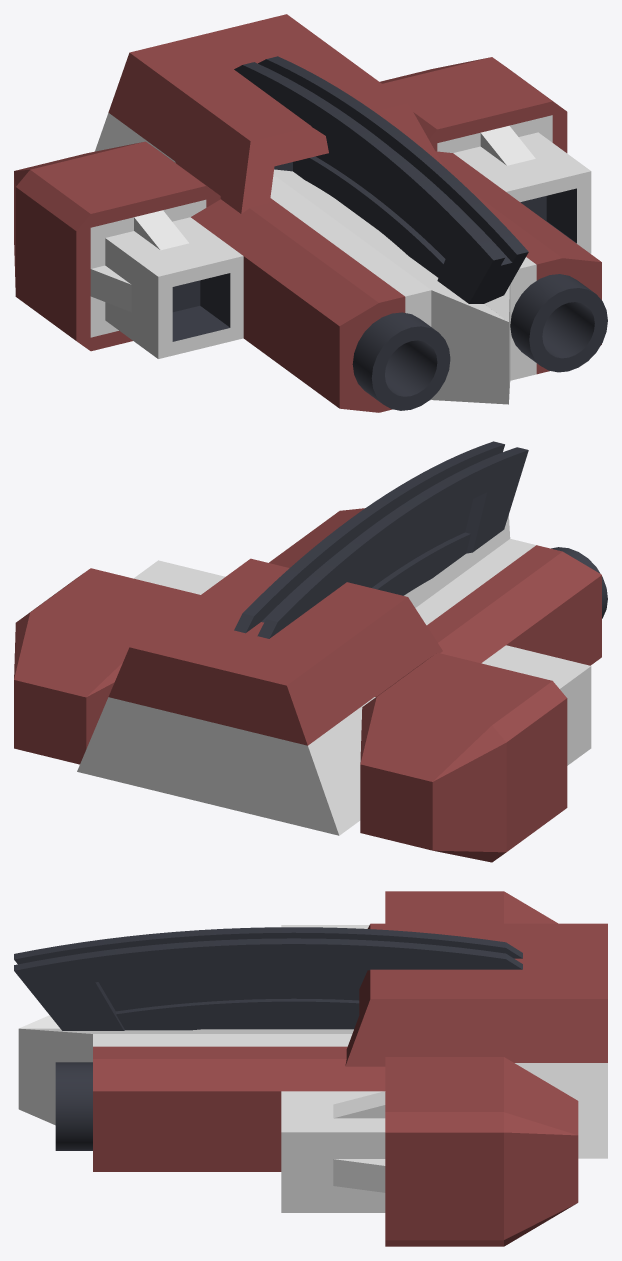
File: flying_01_02.obj
3 renders of one model, top to bottom at view 1: azimuth 30°, elevation 25°; view 2: azimuth 150°, elevation 25°; view 3: azimuth 270°, elevation 25°, orthographic. The views are drawn at different scales.
Parts seen in each view (by area): view 1: mergedBlocks; view 2: mergedBlocks; view 3: mergedBlocks.
Part boxes in pixels (bbox=[...]): mergedBlocks: bbox=[14, 14, 607, 412]; mergedBlocks: bbox=[14, 441, 607, 862]; mergedBlocks: bbox=[14, 891, 607, 1246].
Bounding box in the file's own units: 1.87 × 0.7456 × 2.
